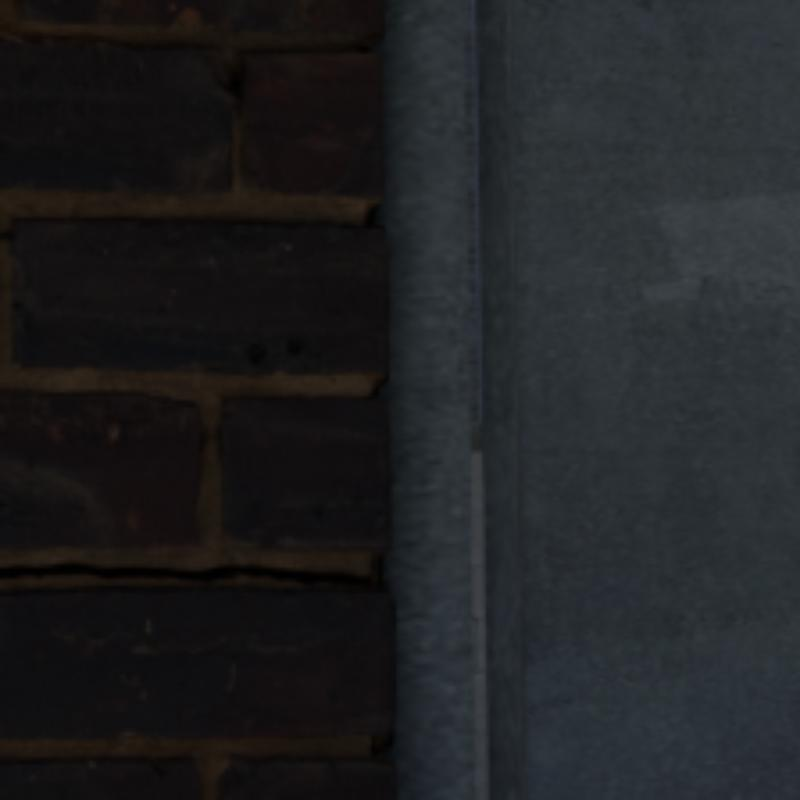pothole: (0, 561, 371, 586)
